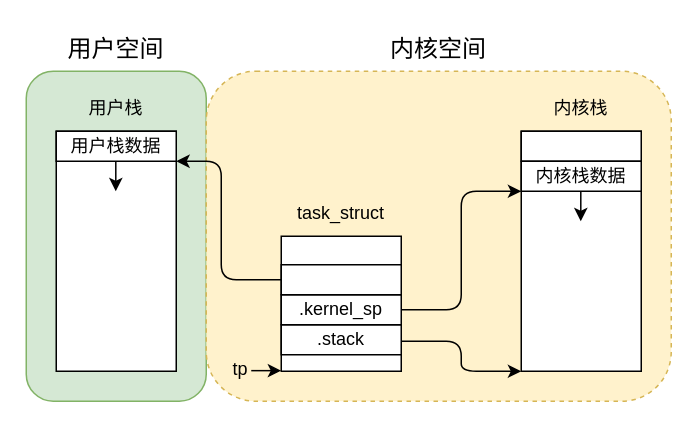
Some shapes in this 698 by 428 pixel diagram are drawn without their labels. Each missing label, with the centre of its shape:
.user_sp: the point at 340,279
struct pt_regs: the point at 580,145
